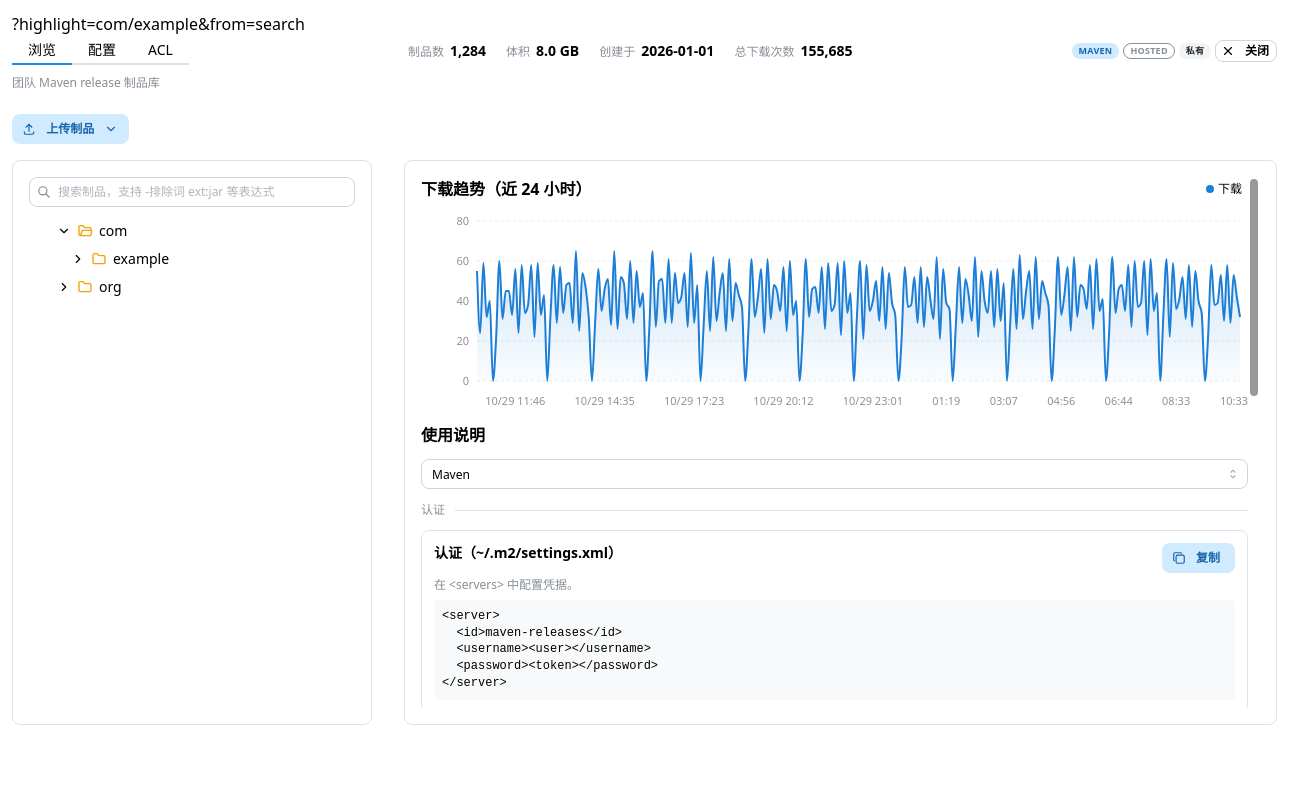
Test: 仓库详情 › 受控页签写入 tab 查询参数并保留 highlight 等其他参数
This screenshot has width=1292, height=812.
Click the tab "配置" at (102, 51), box [72, 37, 132, 65]
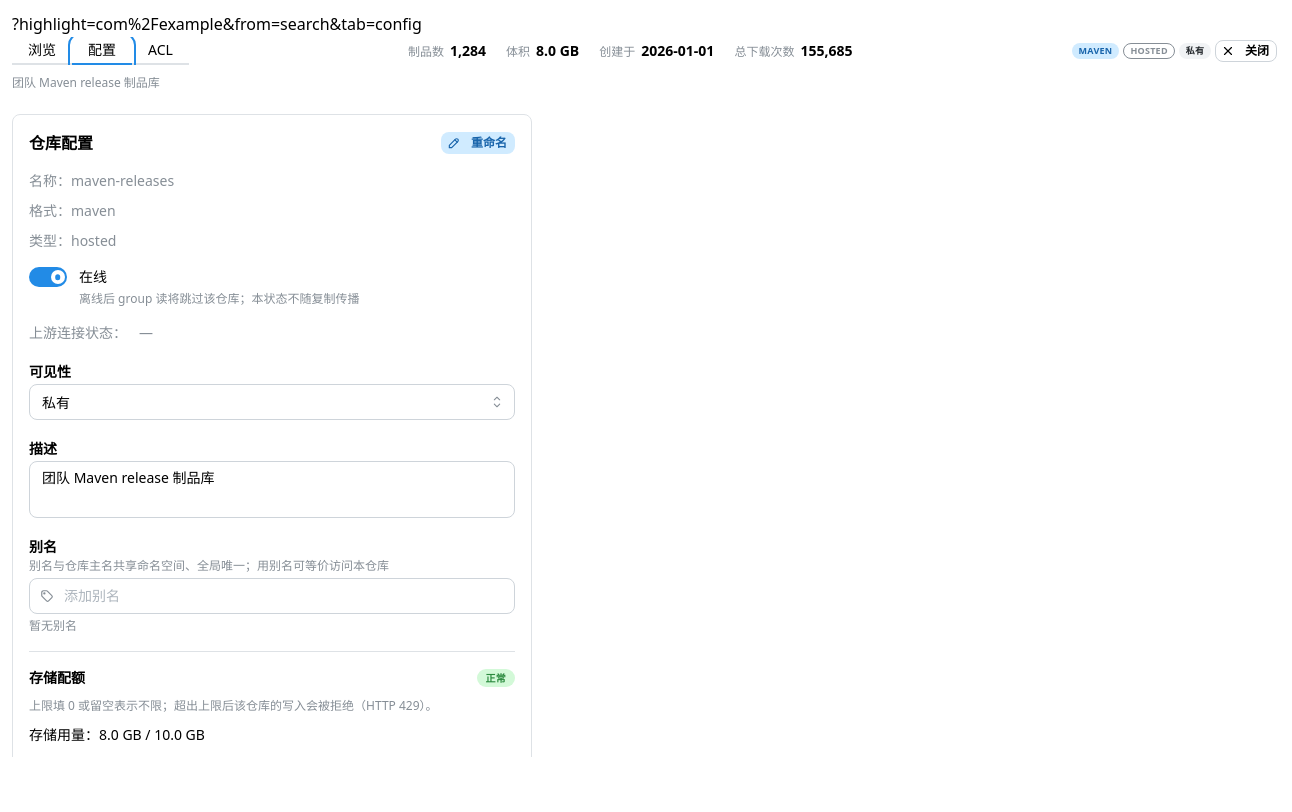
Expected: the text with test id "detail-location" reads "?highlight=com%2Fexample&from=search&tab=config", [12, 13, 422, 35]
Click the tab "ACL" at (160, 51), box [132, 37, 189, 65]
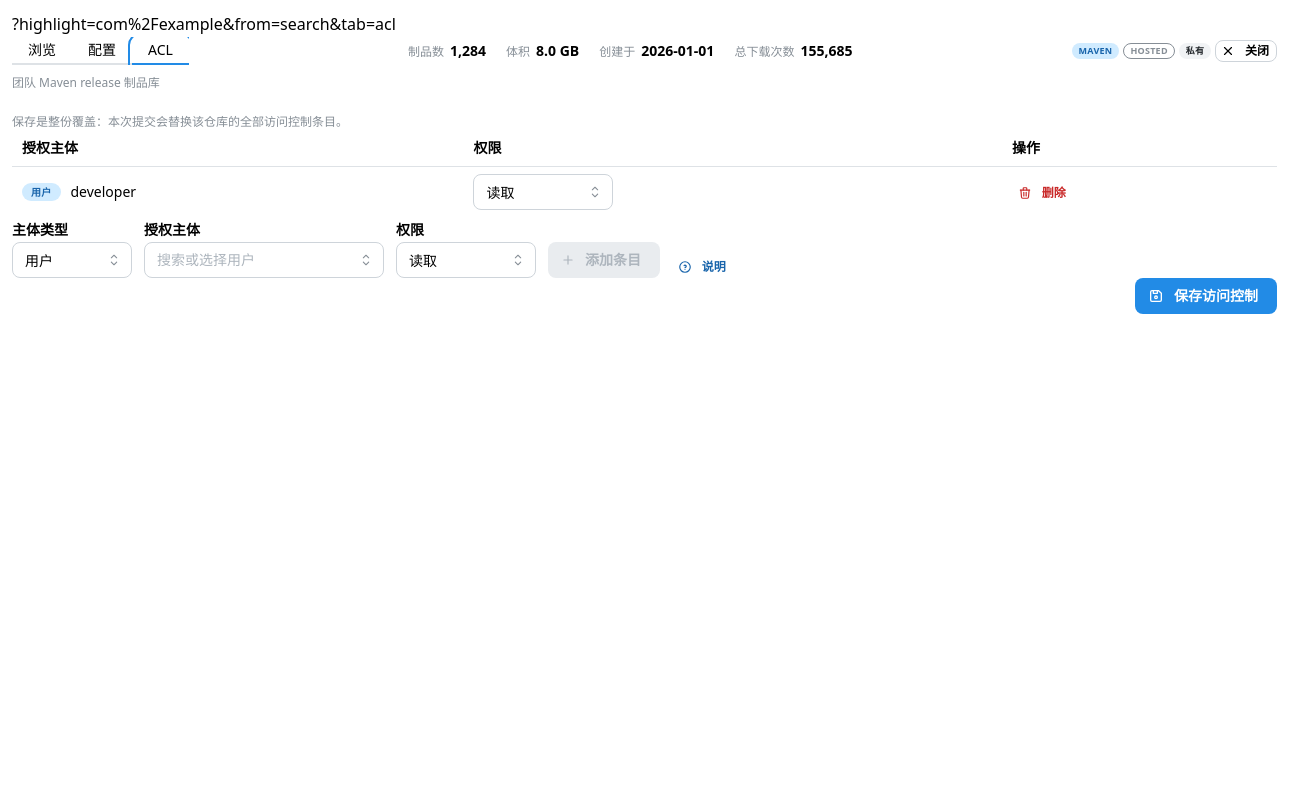
Expected: the text with test id "detail-location" reads "?highlight=com%2Fexample&from=search&tab=acl", [12, 13, 396, 35]
